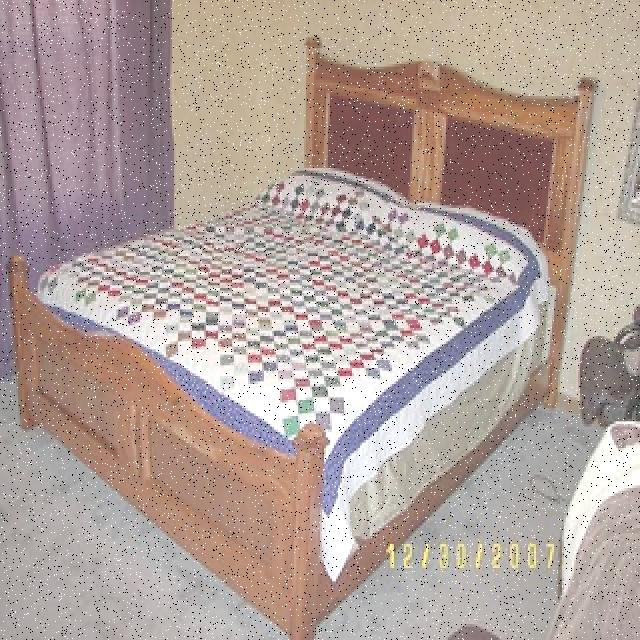bed: (18, 68, 600, 618)
